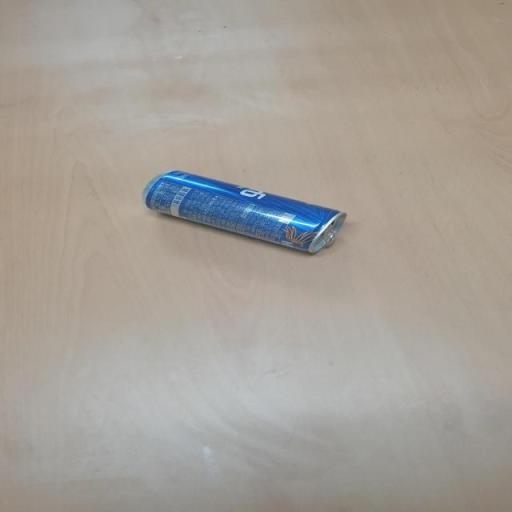metal: (64, 140, 378, 270)
